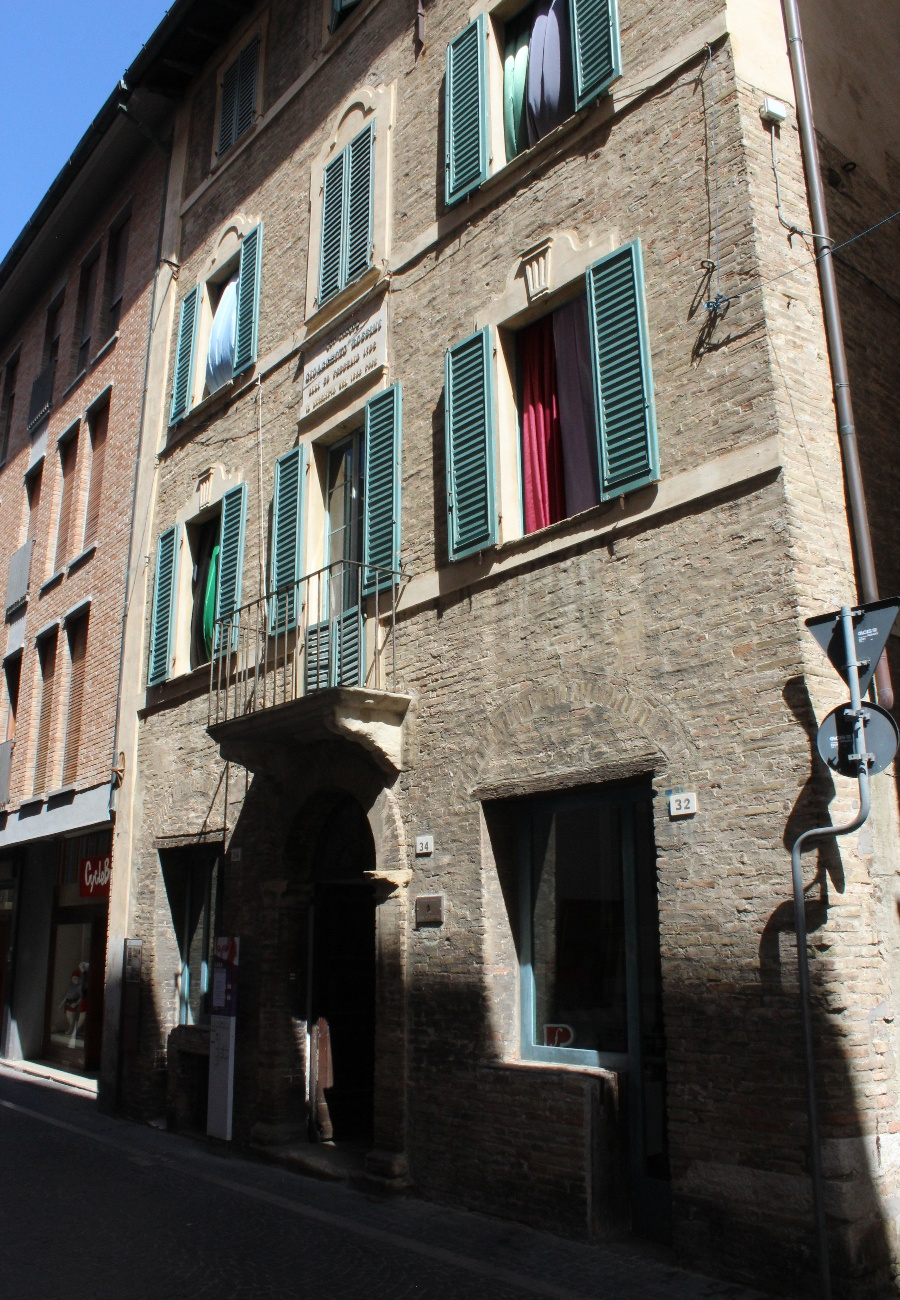Casa Rossini: (136, 1, 879, 1271)
